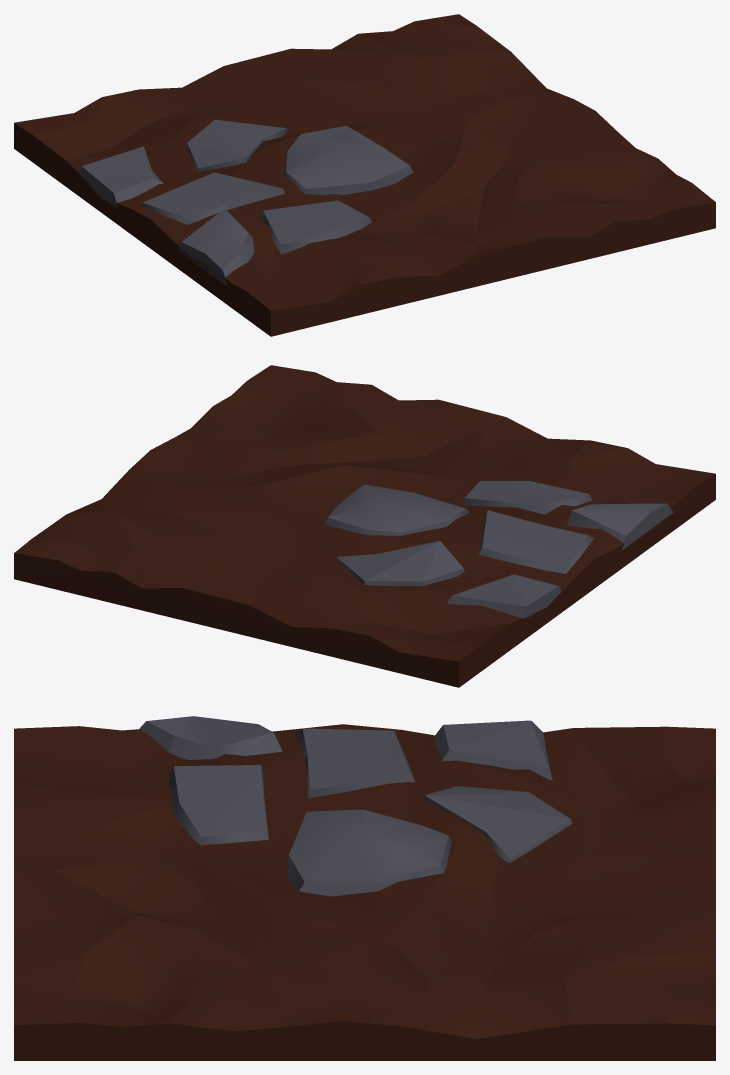
File: Ground_Stone_Path_Ending_R.fbx
3 views of the same model, one above another, from view 1: azimuth 30°, elevation 25°; view 2: azimuth 150°, elevation 25°; view 3: azimuth 270°, elevation 25° (orthographic). The views are drawn at different scales.
Visible parts, largest first — view 1: Ground_Stone_Path_Ending_R; view 2: Ground_Stone_Path_Ending_R; view 3: Ground_Stone_Path_Ending_R.
Boxes of the visible parts, box(x1,y1,x2,y2) form: Ground_Stone_Path_Ending_R: box(14, 14, 715, 336); Ground_Stone_Path_Ending_R: box(14, 365, 715, 687); Ground_Stone_Path_Ending_R: box(14, 716, 715, 1060).
Bounding box in the file's own units: 147 × 14.98 × 147.
